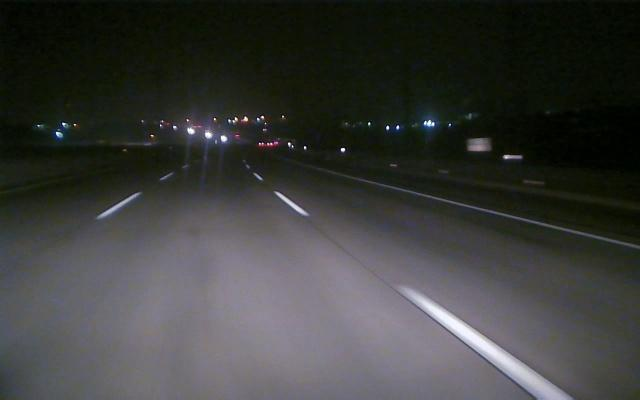lane: (255, 174, 574, 398), (365, 180, 640, 251), (97, 172, 173, 219)
